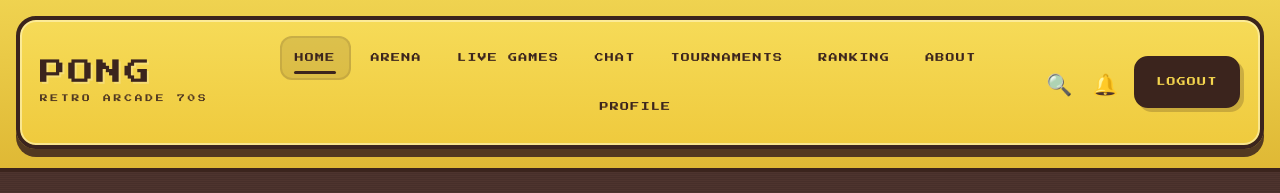
Scenario: Navbar — bell and DM badge › pressing Escape in the input closes the search and restores the toggle
Click the button named "open user search" at (1059, 82), box [1042,68,1076,97]
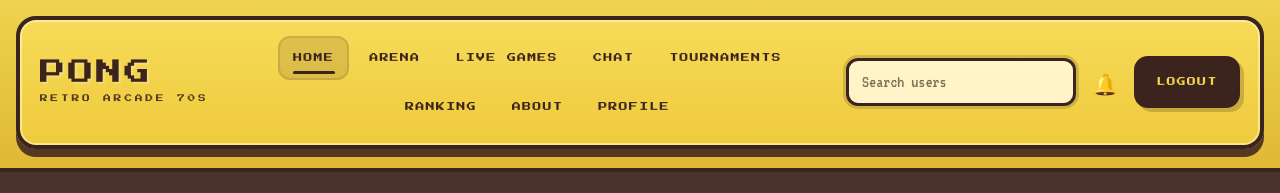
Type "al" into the search field labelled "Search users" at (961, 82), box [846,58,1076,106]
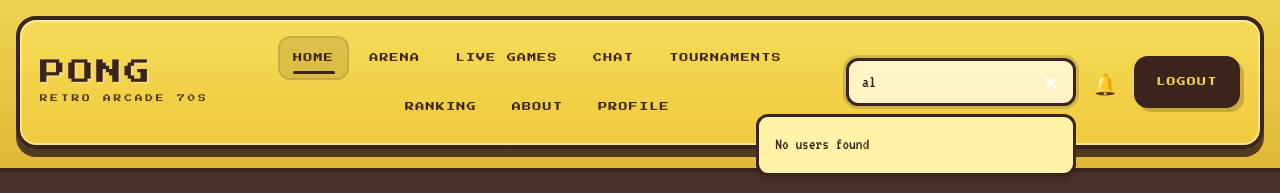
Press Escape in the search field named "Search users", box [846,58,1076,106]
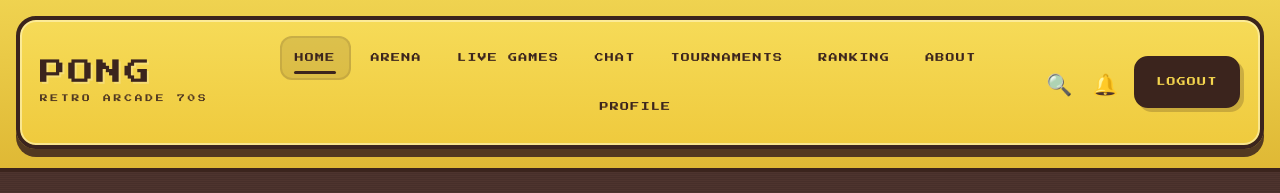
expect the search field labelled "search users" is not shown: met
expect the button named "open user search" is shown: met, box [1042,68,1076,97]
